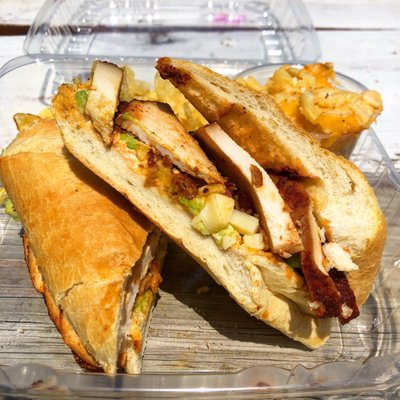soup: (49, 59, 391, 342), (0, 137, 169, 376)
